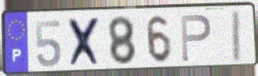5: (34, 19, 63, 69)
6: (145, 14, 174, 65)
8: (107, 14, 139, 68)
I: (230, 8, 244, 65)
P: (179, 13, 213, 64)
X: (66, 15, 104, 69)
